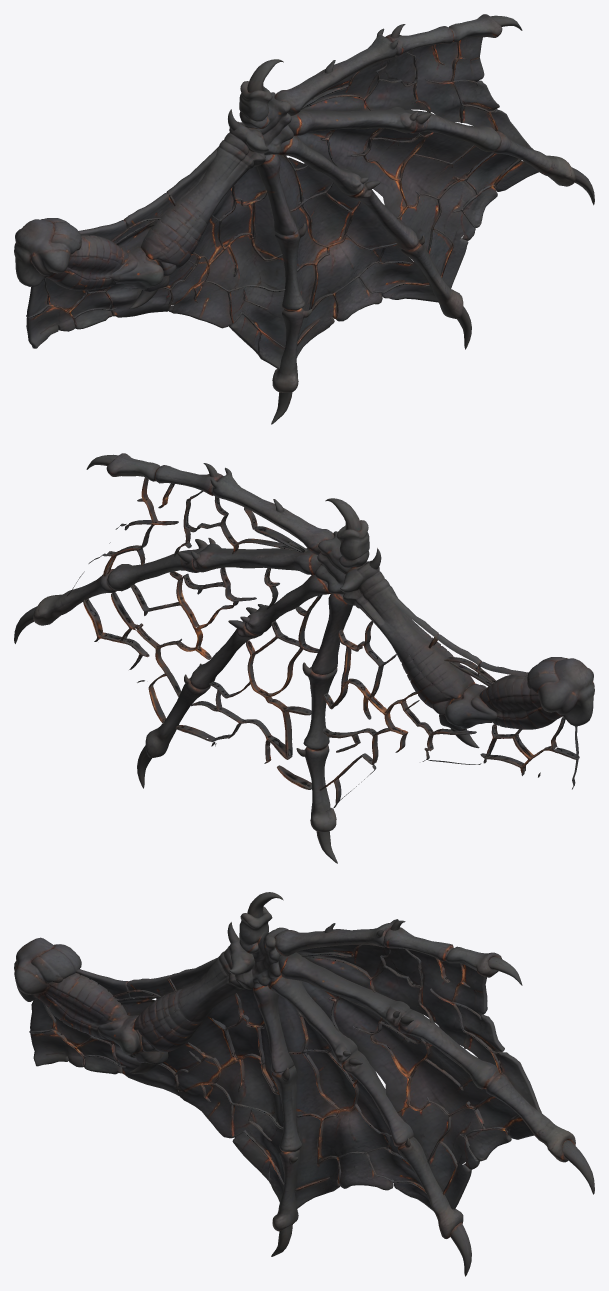
Rendered from kanat3.glb.
The picture shows the model from 3 angles, top to bottom: view 1: azimuth 30°, elevation 25°; view 2: azimuth 150°, elevation 25°; view 3: azimuth 330°, elevation 25°; orthographic projection.
Parts seen in each view (by area): view 1: af9929f6_9ff5_4e8c_aef4_e63b38e1dd4a; view 2: af9929f6_9ff5_4e8c_aef4_e63b38e1dd4a; view 3: af9929f6_9ff5_4e8c_aef4_e63b38e1dd4a.
Part boxes in pixels (x1,y1,x2,y2): af9929f6_9ff5_4e8c_aef4_e63b38e1dd4a: (14, 14, 594, 424); af9929f6_9ff5_4e8c_aef4_e63b38e1dd4a: (14, 453, 594, 863); af9929f6_9ff5_4e8c_aef4_e63b38e1dd4a: (14, 892, 594, 1276).
Size of the model in its own units: 0.9995 by 0.6089 by 0.1206.
Materials: 1 (1 with a texture image).
